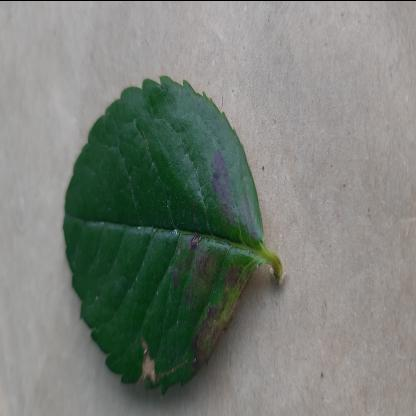downy-mildew: (62, 63, 266, 398)
